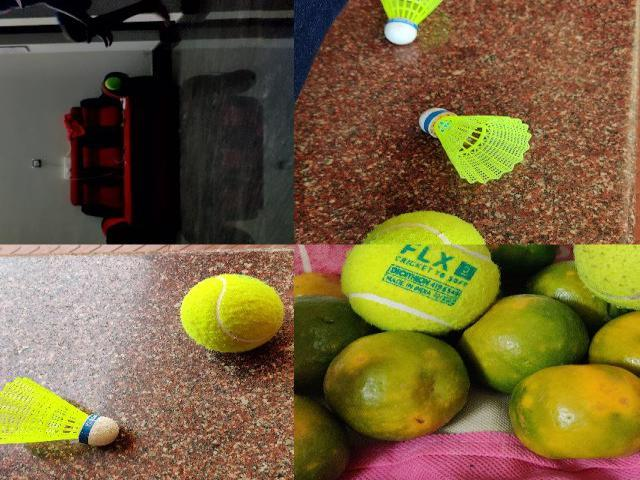tennis-ball: (340, 244, 500, 330), (180, 273, 282, 351), (357, 210, 489, 244), (572, 244, 639, 310), (104, 76, 122, 90)
